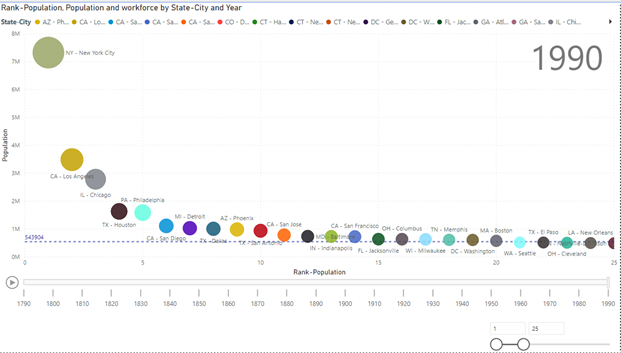

The dashboard page shown, as its layout file describes it:
{"tool":"powerbi","page":{"name":"Top 25 US Cities - Population","canvas":[1280,720],"ordinal":0},"visuals":[{"type":"slicer","fields":{"Values":["FinalList.Rank-Population"]},"box":[999.4,648.2,281,71.8],"z":0},{"type":"scatterChart","fields":{"X":["Sum(FinalList.Rank-Population)"],"Y":["Sum(FinalList.Population)"],"Size":["FinalList.workforce"],"Series":["FinalList.State-City"],"Play":["FinalList.Year"]},"box":[0,0,1280.4,648.2],"z":1}]}

Visuals, with their boxes in screenshot pixels (x1, y1, x2, y2), scaled from the page's 1280x720 canvas onto the 621x353 screenshot:
slicer - FinalList.Rank-Population: (485, 318, 620, 352)
scatterChart - Sum(FinalList.Rank-Population) x Sum(FinalList.Population): (0, 0, 620, 318)
